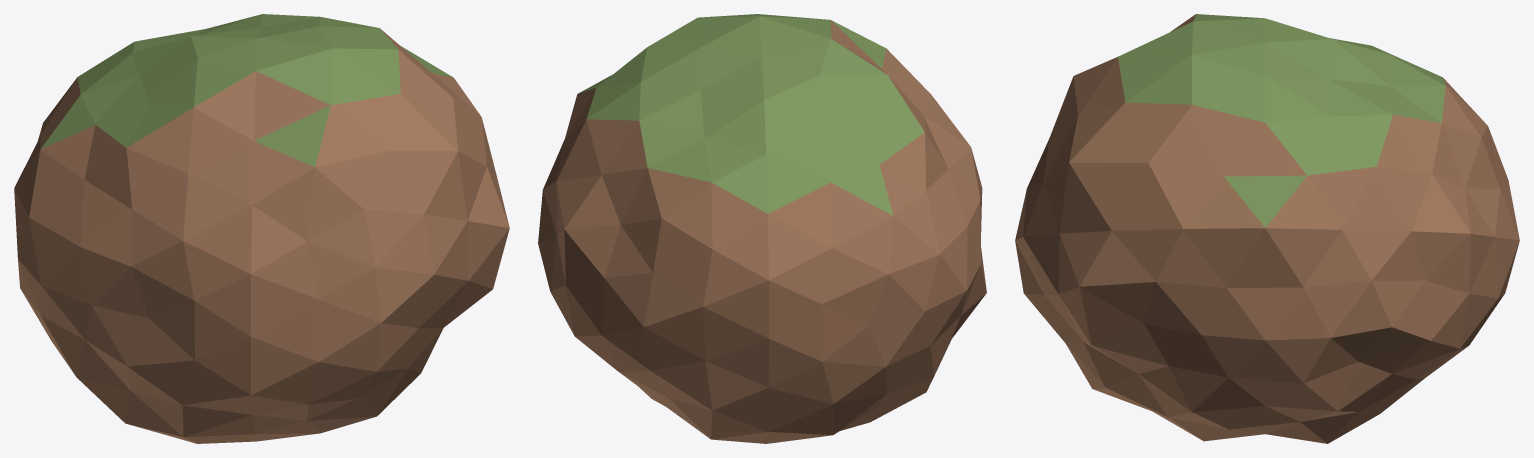
The model's file is rock.gltf.
3 renders of one model, left to right at view 1: azimuth 30°, elevation 25°; view 2: azimuth 150°, elevation 25°; view 3: azimuth 270°, elevation 25°, orthographic. The views are drawn at different scales.
Parts seen in each view (by area): view 1: rock; view 2: rock; view 3: rock.
Part boxes in pixels (<box>): rock: <box>14,14,509,443</box>; rock: <box>538,14,986,443</box>; rock: <box>1015,14,1519,443</box>.
Size of the model in its own units: 3.19 by 2.8 by 3.28.
